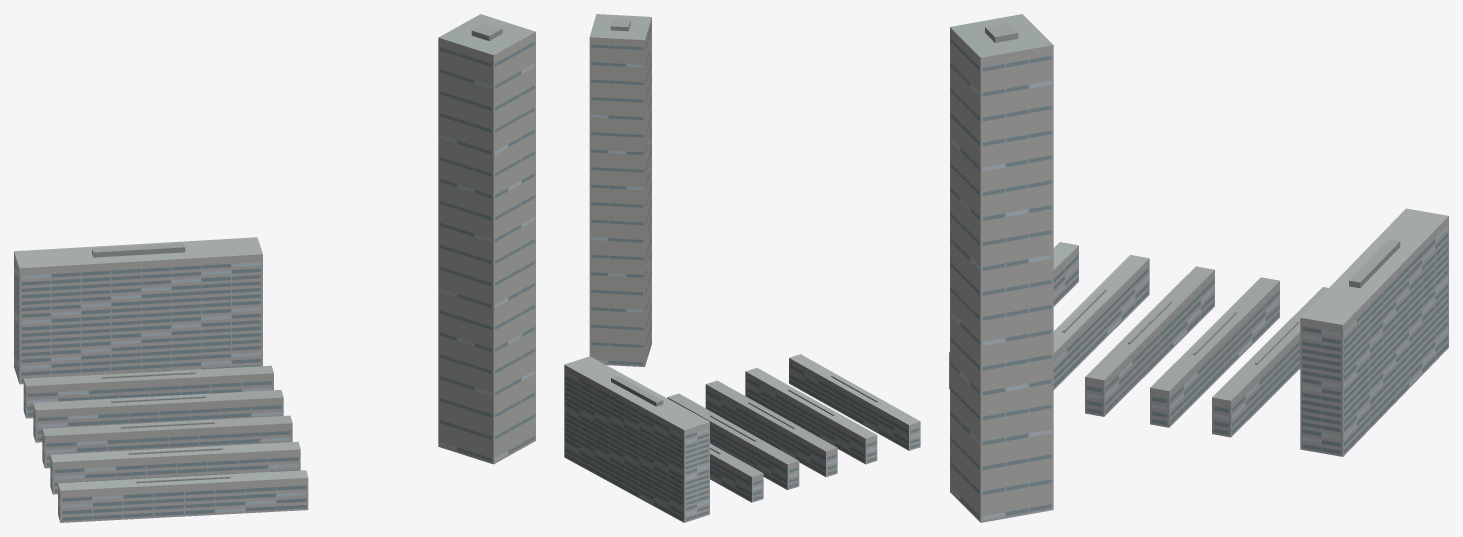
The model's file is apt-a14003002.glb.
The picture shows the model from 3 angles, left to right: view 1: azimuth 30°, elevation 25°; view 2: azimuth 150°, elevation 25°; view 3: azimuth 270°, elevation 25°; orthographic projection. The views are drawn at different scales.
Parts seen in each view (by area): view 1: apt-a14003002; view 2: apt-a14003002; view 3: apt-a14003002.
Boxes of the visible parts, x1=… form: apt-a14003002: x1=14, y1=14, x2=535, y2=522; apt-a14003002: x1=564, y1=14, x2=920, y2=522; apt-a14003002: x1=949, y1=14, x2=1448, y2=522.
Size of the model in its own units: 218 by 196 by 189.
